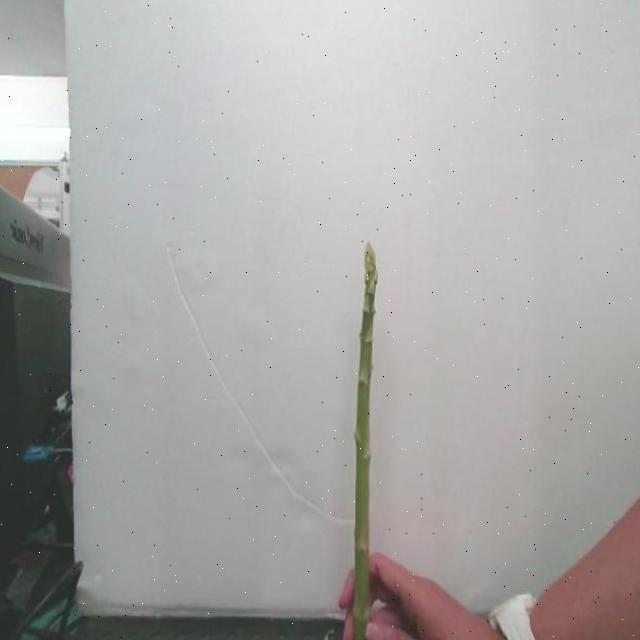aspargus: (349, 246, 378, 640)
